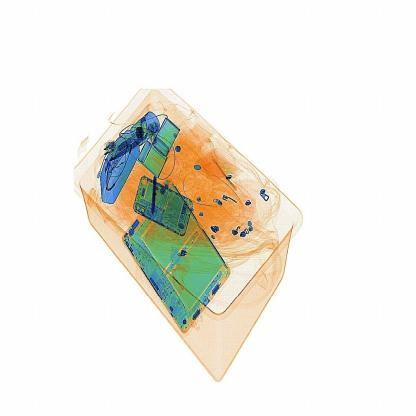knife: (136, 174, 166, 216)
